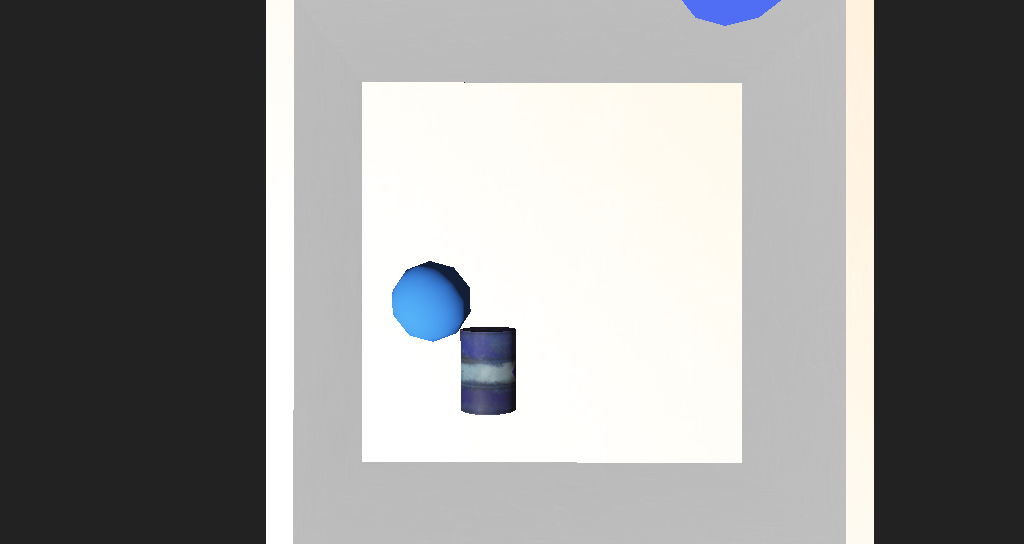cone: (435, 298, 482, 351)
cylinder: (569, 38, 670, 153)
sphere: (381, 265, 441, 308)
